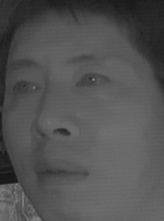eye: (72, 69, 112, 91), (8, 75, 42, 97)
mouth: (32, 152, 94, 192)
